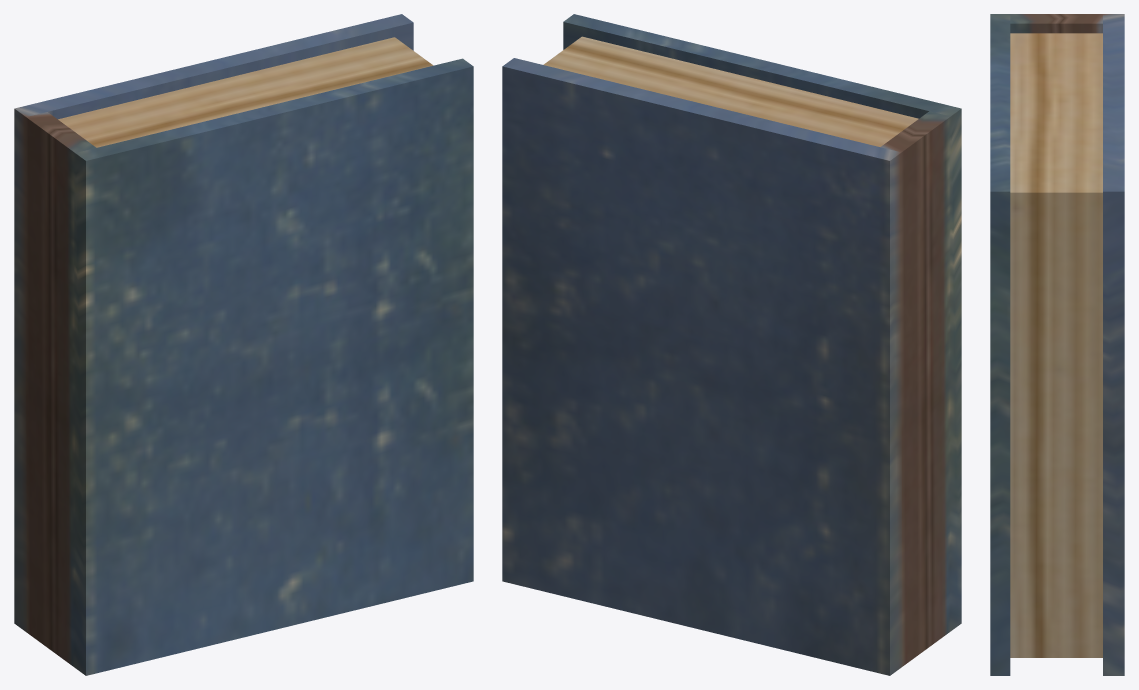
The model's file is broken_FlaskSquare.fbx_floor3.fbx_book3.fbx.
3 renders of one model, left to right at view 1: azimuth 30°, elevation 25°; view 2: azimuth 150°, elevation 25°; view 3: azimuth 270°, elevation 25°, orthographic. The views are drawn at different scales.
Visible parts, largest first — view 1: Cube.017; view 2: Cube.017; view 3: Cube.017.
Part boxes in pixels (x1=…): Cube.017: x1=14, y1=14, x2=473, y2=675; Cube.017: x1=502, y1=14, x2=961, y2=675; Cube.017: x1=990, y1=14, x2=1124, y2=675.
Bounding box in the file's own units: 18.68 × 23.72 × 5.98.
